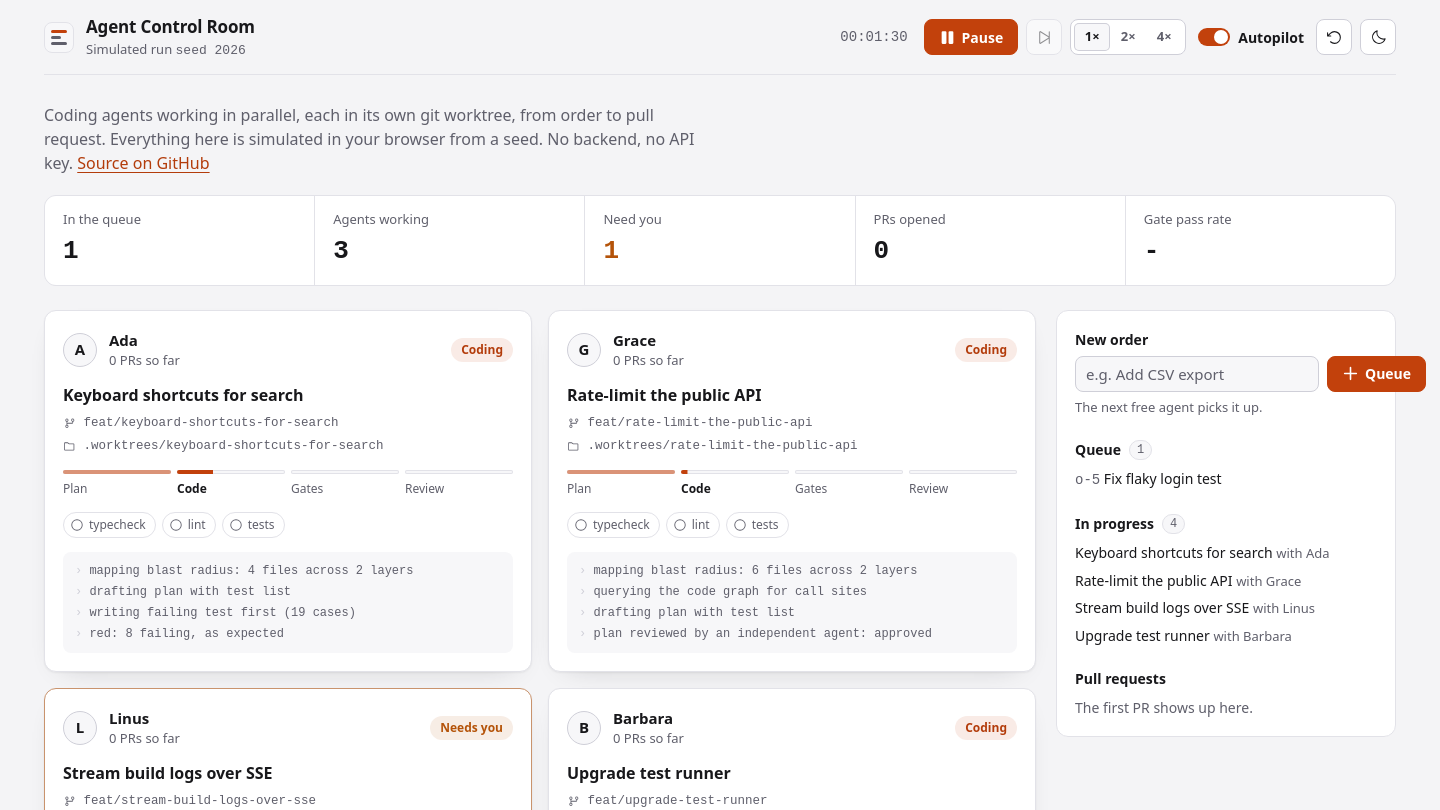
Test: App › explains an empty order instead of queueing it
The width and height of the screenshot is (1440, 810).
Click the button "Pause" at (971, 37), box top-left (924, 19), bottom-right (1018, 55)
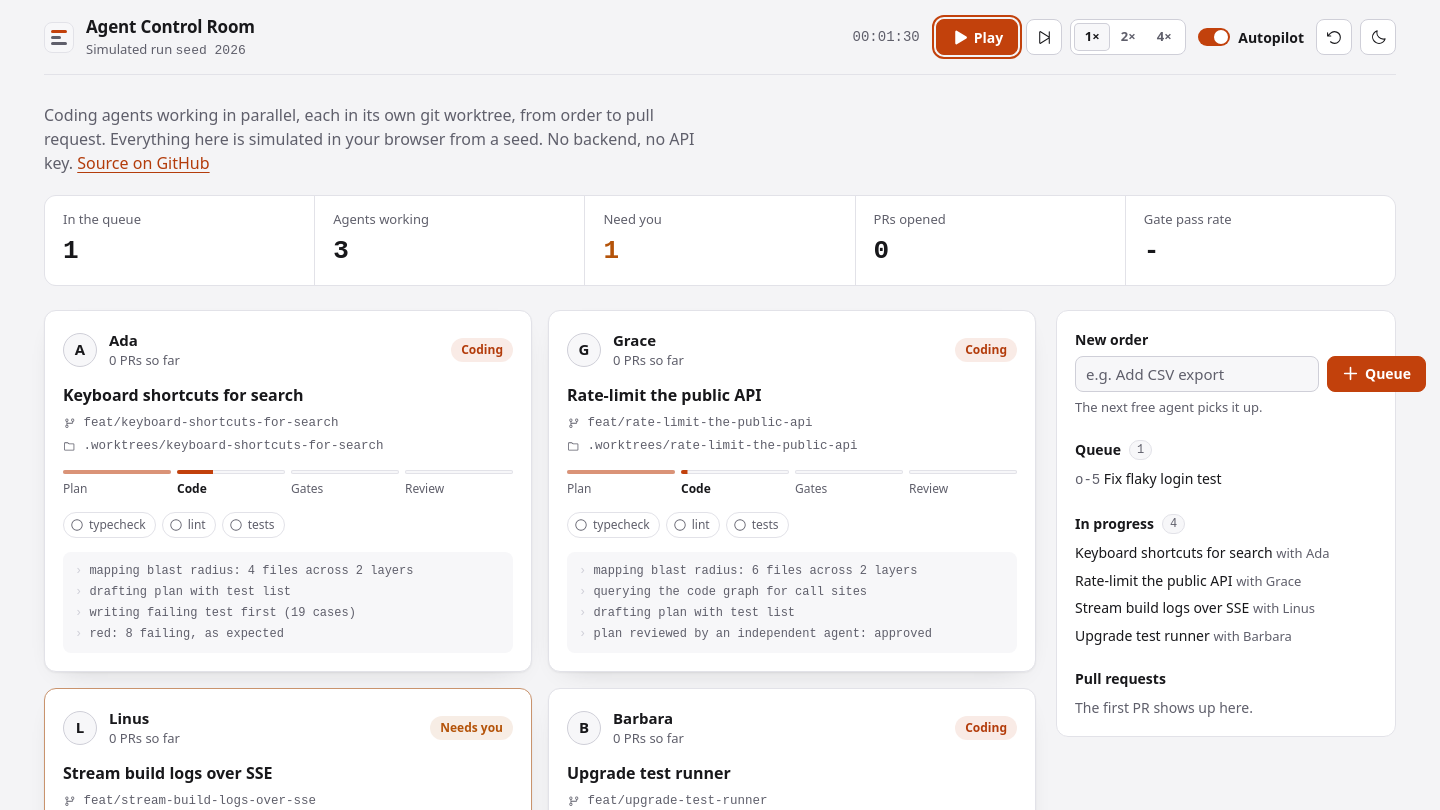
Click the button "Queue" at (1377, 374), box top-left (1327, 356), bottom-right (1426, 392)
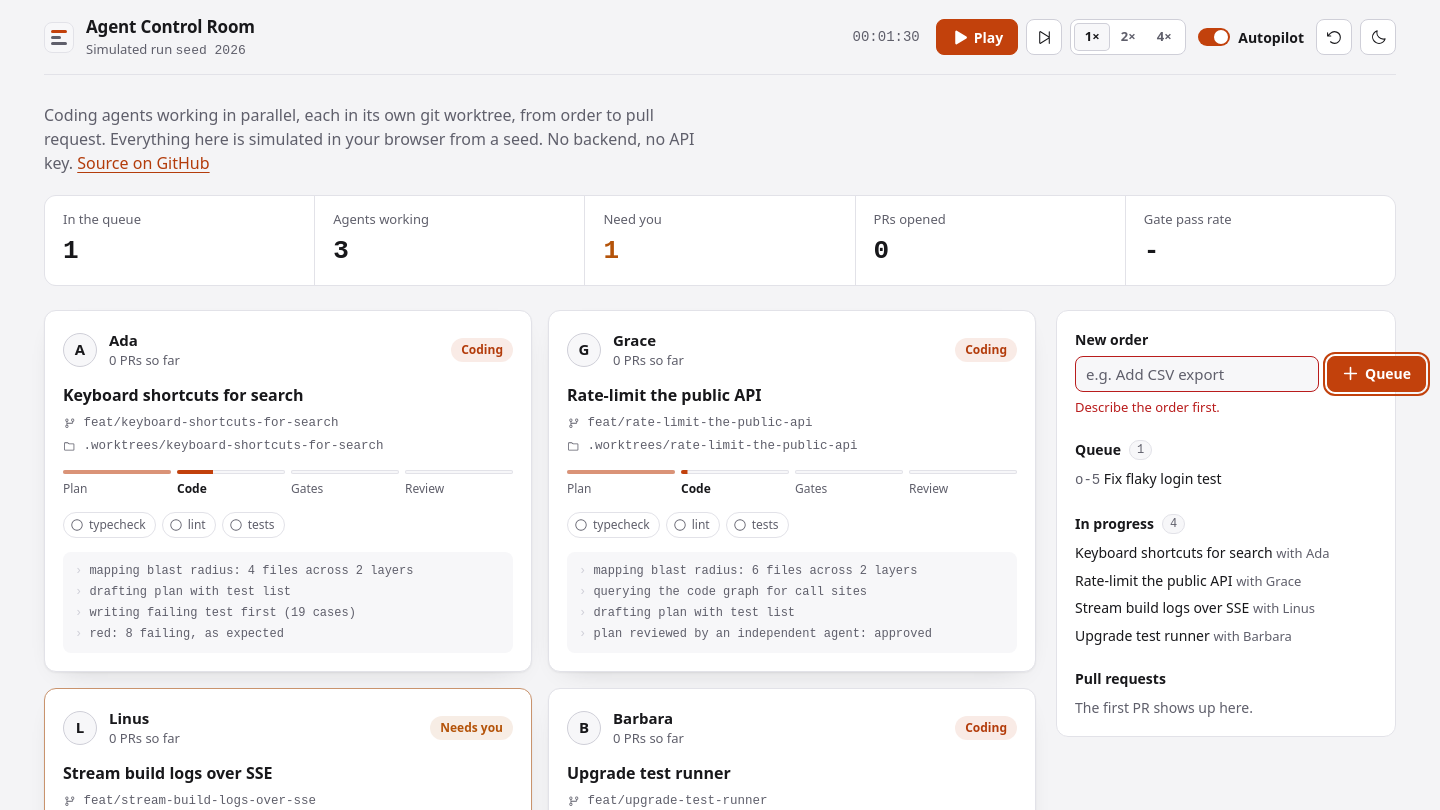
Expected: the text "Describe the order first." is shown, top-left (1075, 398), bottom-right (1220, 416)
